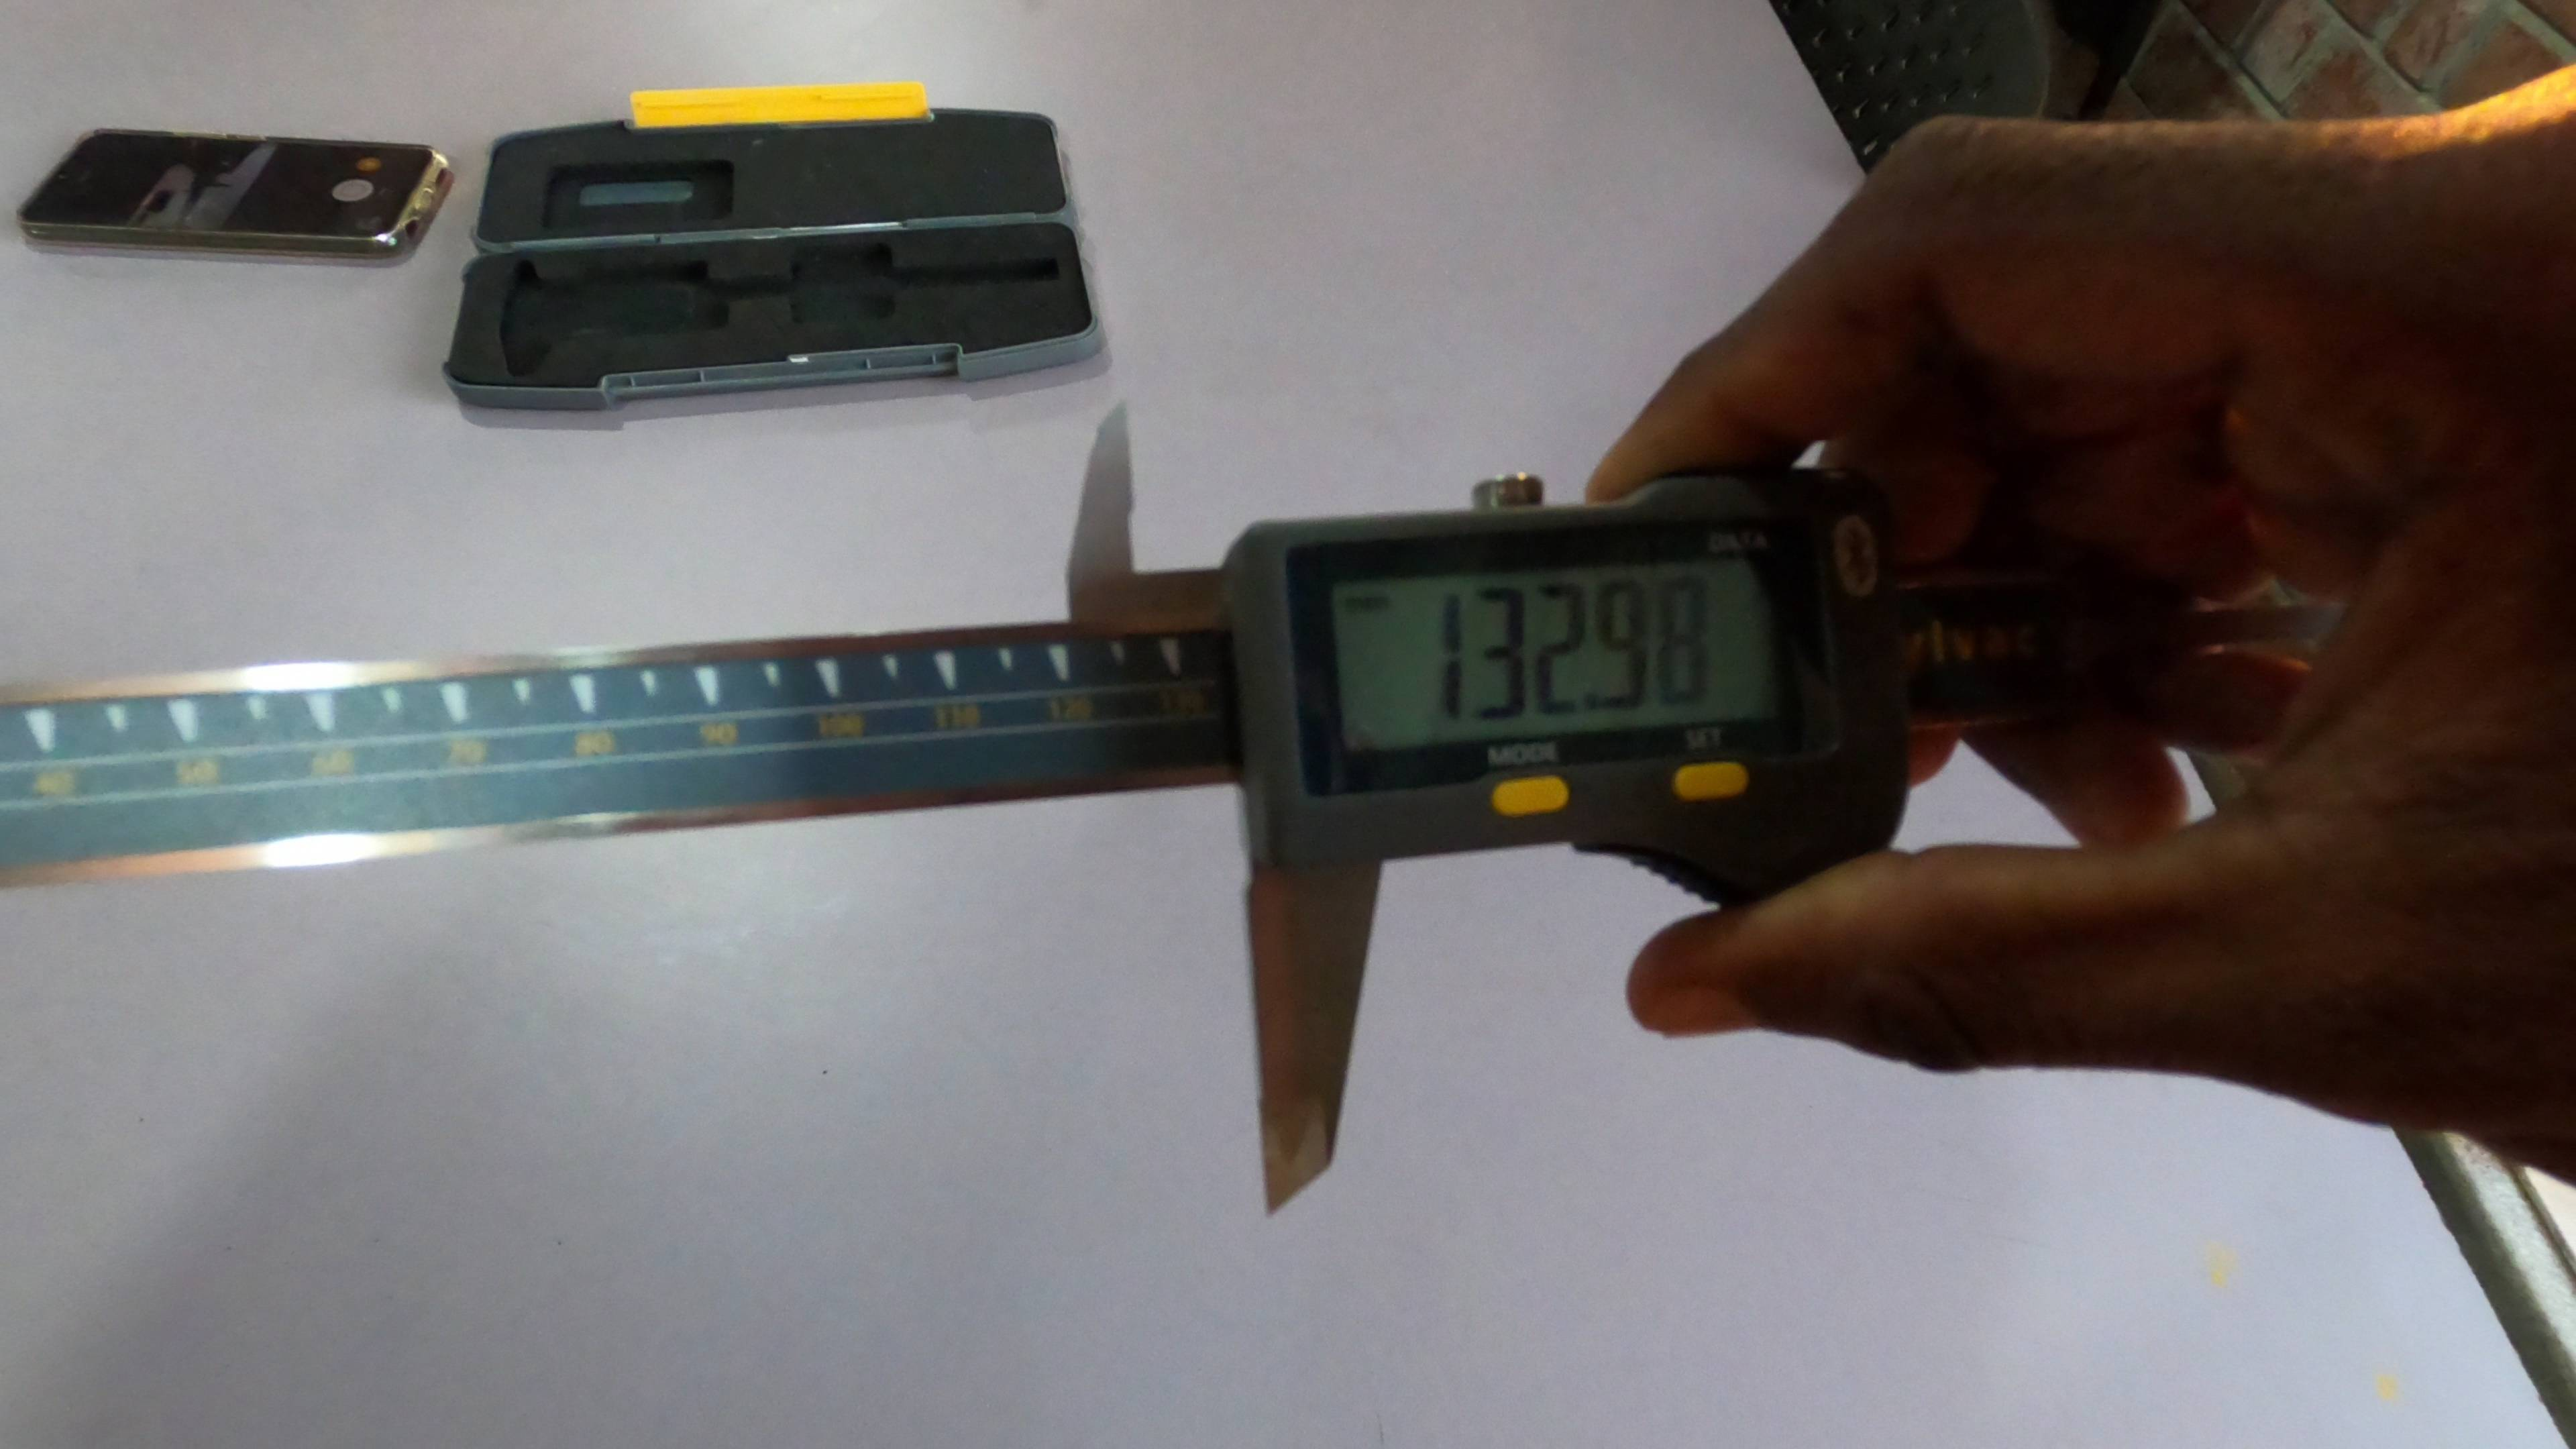vernier_caliper: (14, 391, 1930, 1230)
